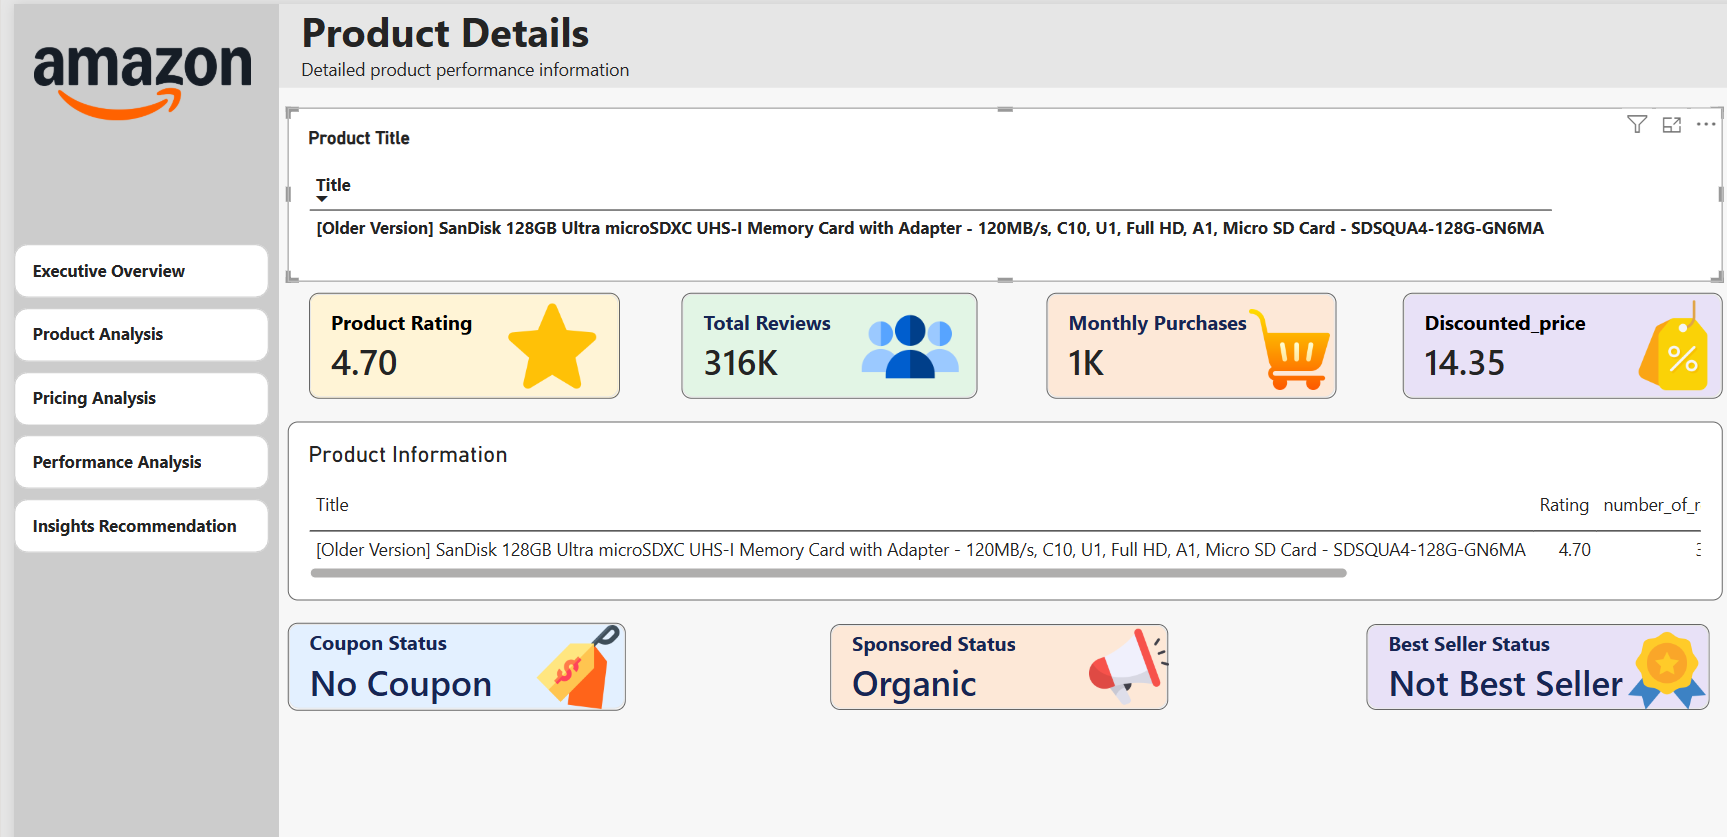

What the dashboard file says about the page in this screenshot:
{"tool":"powerbi","page":{"name":"Product Details","canvas":[1920,1080],"ordinal":5},"visuals":[{"type":"shape","box":[0,0,212,756],"z":1000},{"type":"shape","box":[212,0,1331.1,66.7],"z":2000},{"type":"textbox","box":[230,0,1068,67],"z":3000},{"type":"image","box":[15.6,33.3,174.4,61.1],"z":4000},{"type":"pageNavigator","box":[0,192,204.4,247.8],"z":5000},{"type":"tableEx","title":"Product Title","fields":{"Values":["amazon_products_sales_data_uncl.title"]},"box":[219,83,1148,139],"z":6000},{"type":"cardVisual","fields":{"Data":["Sum(amazon_products_sales_data_uncl.Rating)"]},"box":[236,231,249,85],"z":7000},{"type":"cardVisual","fields":{"Data":["Sum(amazon_products_sales_data_uncl.number_of_reviews)"]},"box":[534,231,237,85],"z":8000},{"type":"cardVisual","fields":{"Data":["Sum(amazon_products_sales_data_uncl.Monthly purchase)"]},"box":[826,231,232,85],"z":9000},{"type":"cardVisual","fields":{"Data":["Avg(amazon_products_sales_data_uncl.Discounted_price)"]},"box":[1111,231,256,85],"z":10000},{"type":"tableEx","title":"Product Information","fields":{"Values":["amazon_products_sales_data_uncl.Title","amazon_products_sales_data_uncl.Rating","amazon_products_sales_data_uncl.number_of_reviews","amazon_products_sales_data_uncl.Monthly purchase","amazon_products_sales_data_uncl.Orginal_price","amazon_products_sales_data_uncl.Discounted_price"]},"box":[219,334,1148,143],"z":11000},{"type":"cardVisual","fields":{"Data":["amazon_products_sales_data_uncl.Selected Coupon Status"]},"box":[219,495,271,70],"z":12000},{"type":"cardVisual","fields":{"Data":["amazon_products_sales_data_uncl.Selected Sponsored Status"]},"box":[653,496,271,69],"z":13000},{"type":"cardVisual","fields":{"Data":["amazon_products_sales_data_uncl.Selected Best Seller Status"]},"box":[1082,496,275,69],"z":14000},{"type":"image","box":[385,238,92,71],"z":14001},{"type":"image","box":[671,235,93,78],"z":14002},{"type":"image","box":[984,244,74,65],"z":14003},{"type":"image","box":[1288,237,79,72],"z":14004},{"type":"image","box":[418,496,67,69],"z":14005},{"type":"image","box":[860,495,64,70],"z":14006},{"type":"image","box":[1288,495,69,77],"z":14007}]}

Visuals, with their boxes on the page's 1920x1080 design canvas (x1, y1, x2, y2). These are canvas units, not pixel positions in the 1727x837 screenshot, which may show the page scaled, cropped or inside an application window:
shape: <region>0, 0, 212, 756</region>
shape: <region>212, 0, 1543, 67</region>
textbox: <region>230, 0, 1298, 67</region>
image: <region>16, 33, 190, 94</region>
pageNavigator: <region>0, 192, 204, 440</region>
"Product Title" tableEx: <region>219, 83, 1367, 222</region>
cardVisual - Sum(amazon_products_sales_data_uncl.Rating): <region>236, 231, 485, 316</region>
cardVisual - Sum(amazon_products_sales_data_uncl.number_of_reviews): <region>534, 231, 771, 316</region>
cardVisual - Sum(amazon_products_sales_data_uncl.Monthly purchase): <region>826, 231, 1058, 316</region>
cardVisual - Avg(amazon_products_sales_data_uncl.Discounted_price): <region>1111, 231, 1367, 316</region>
"Product Information" tableEx: <region>219, 334, 1367, 477</region>
cardVisual - amazon_products_sales_data_uncl.Selected Coupon Status: <region>219, 495, 490, 565</region>
cardVisual - amazon_products_sales_data_uncl.Selected Sponsored Status: <region>653, 496, 924, 565</region>
cardVisual - amazon_products_sales_data_uncl.Selected Best Seller Status: <region>1082, 496, 1357, 565</region>
image: <region>385, 238, 477, 309</region>
image: <region>671, 235, 764, 313</region>
image: <region>984, 244, 1058, 309</region>
image: <region>1288, 237, 1367, 309</region>
image: <region>418, 496, 485, 565</region>
image: <region>860, 495, 924, 565</region>
image: <region>1288, 495, 1357, 572</region>
